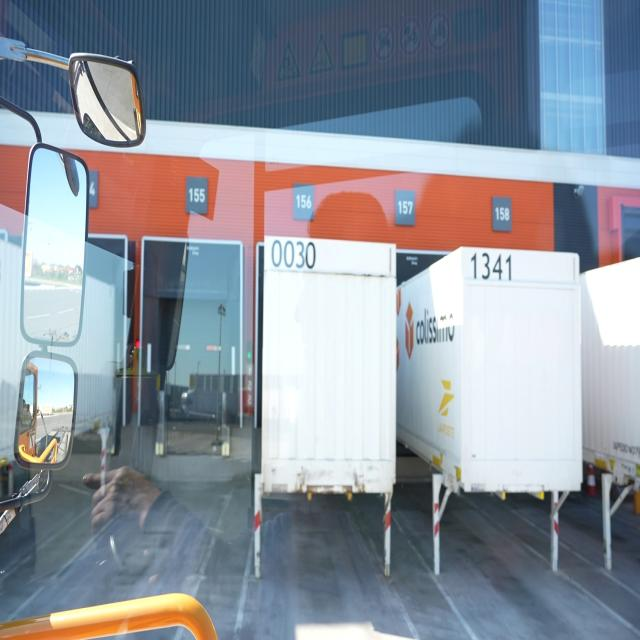Code: (467, 244, 518, 291), (272, 237, 314, 276)
